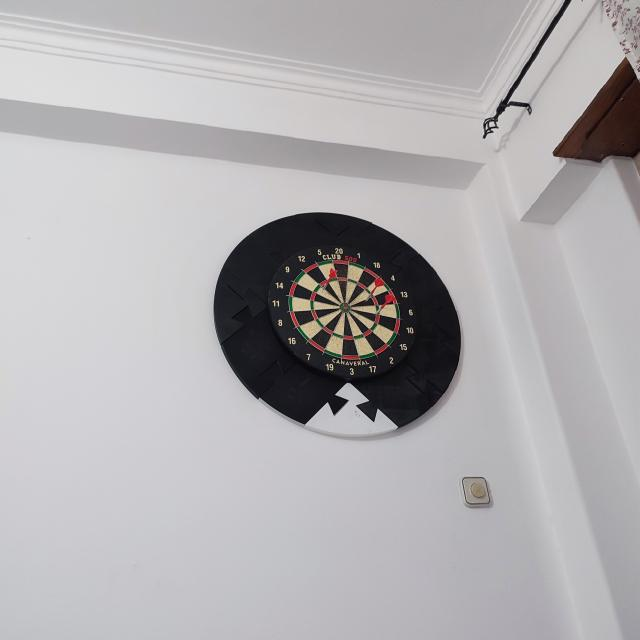dart: (364, 277, 385, 303), (373, 294, 396, 317), (364, 278, 385, 303), (373, 294, 396, 316), (322, 268, 338, 292), (322, 268, 337, 292)
